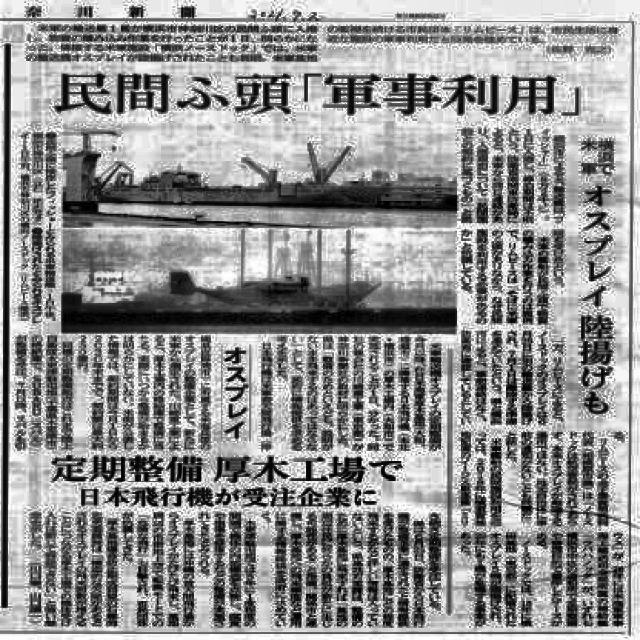V22: (168, 269, 337, 308)
